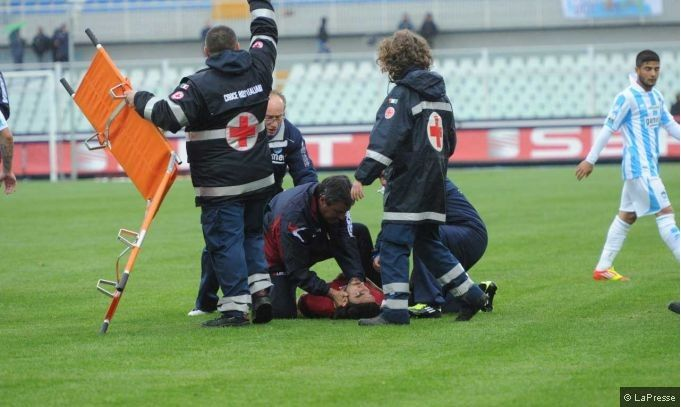fall: (292, 262, 399, 324)
